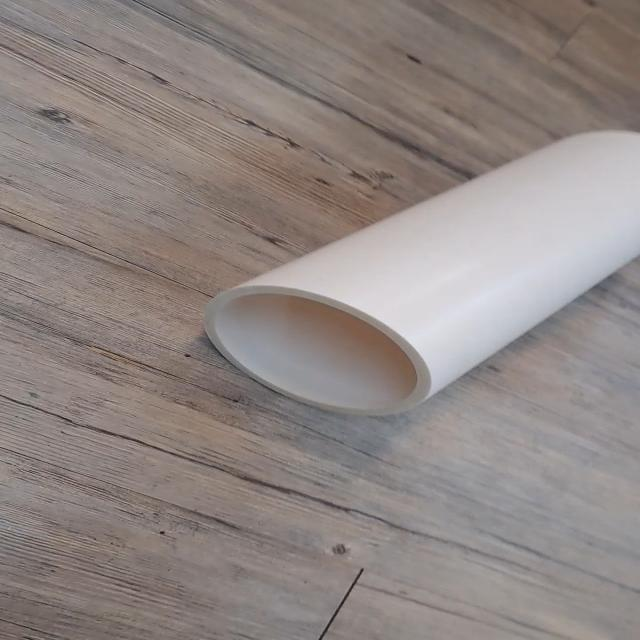CORAL: (193, 115, 640, 421)
